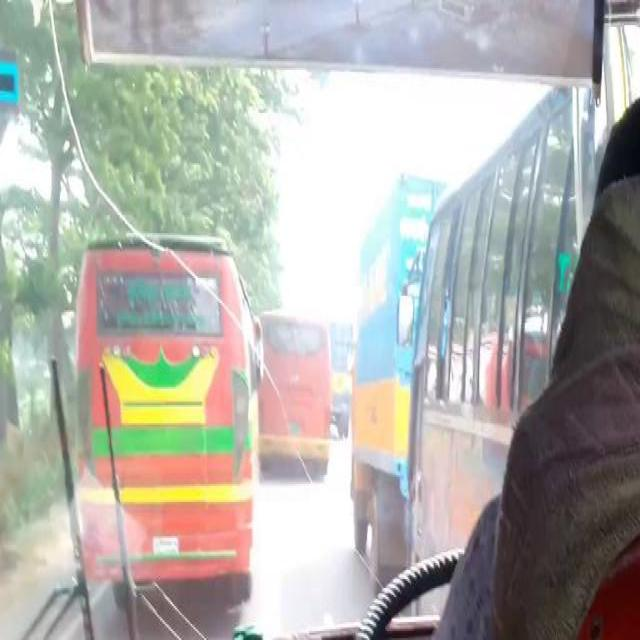bus: (404, 92, 586, 605), (75, 236, 251, 594), (260, 307, 330, 469)
pickup: (348, 173, 408, 575), (330, 321, 352, 434)
